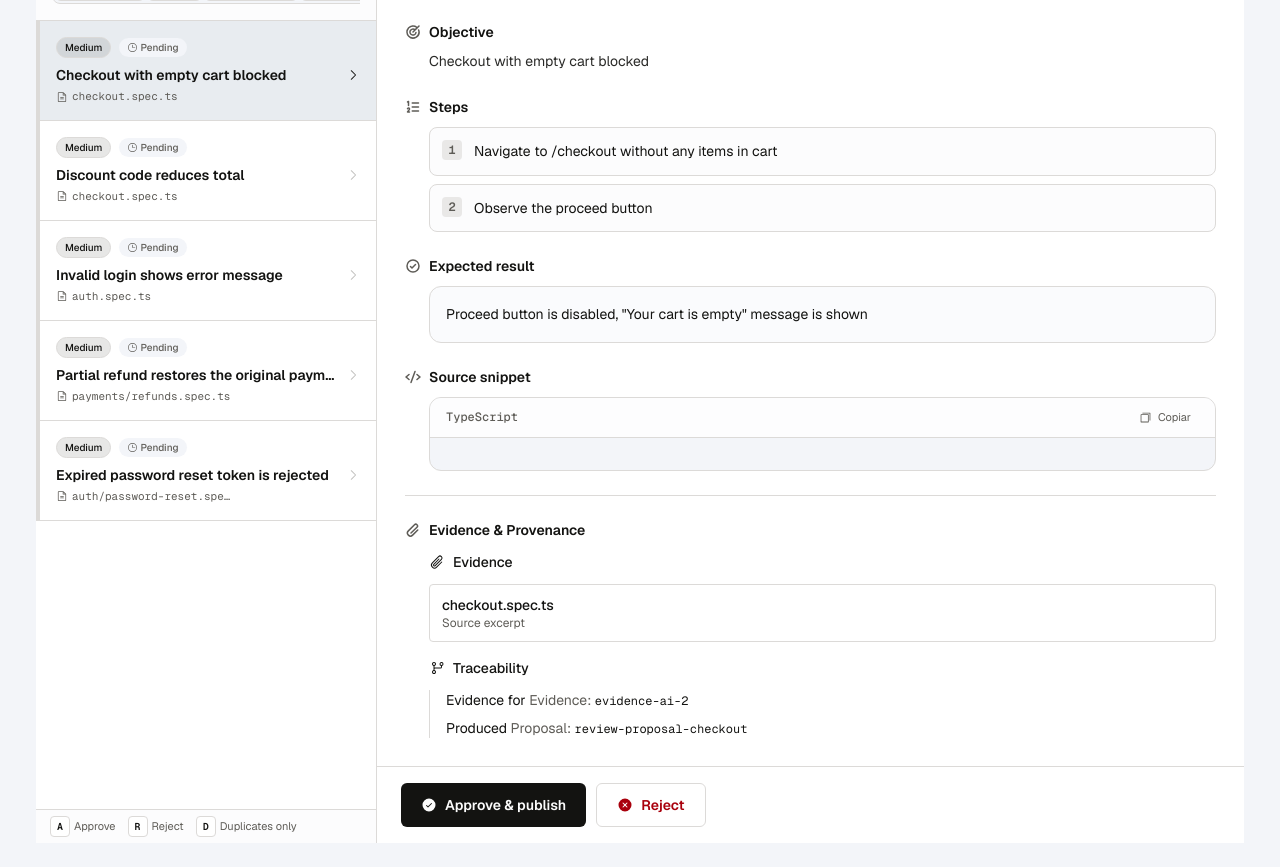
Test: ReviewInboxPage › shows a clear error toast instead of doing nothing when approve fails because the proposal has no steps
(page scrolled)
What coordinates should you click on to do the following:
click the button "Approve & publish"
I would click on:
 (494, 805)
Its box is 401,783 -> 586,827.
(page scrolled)
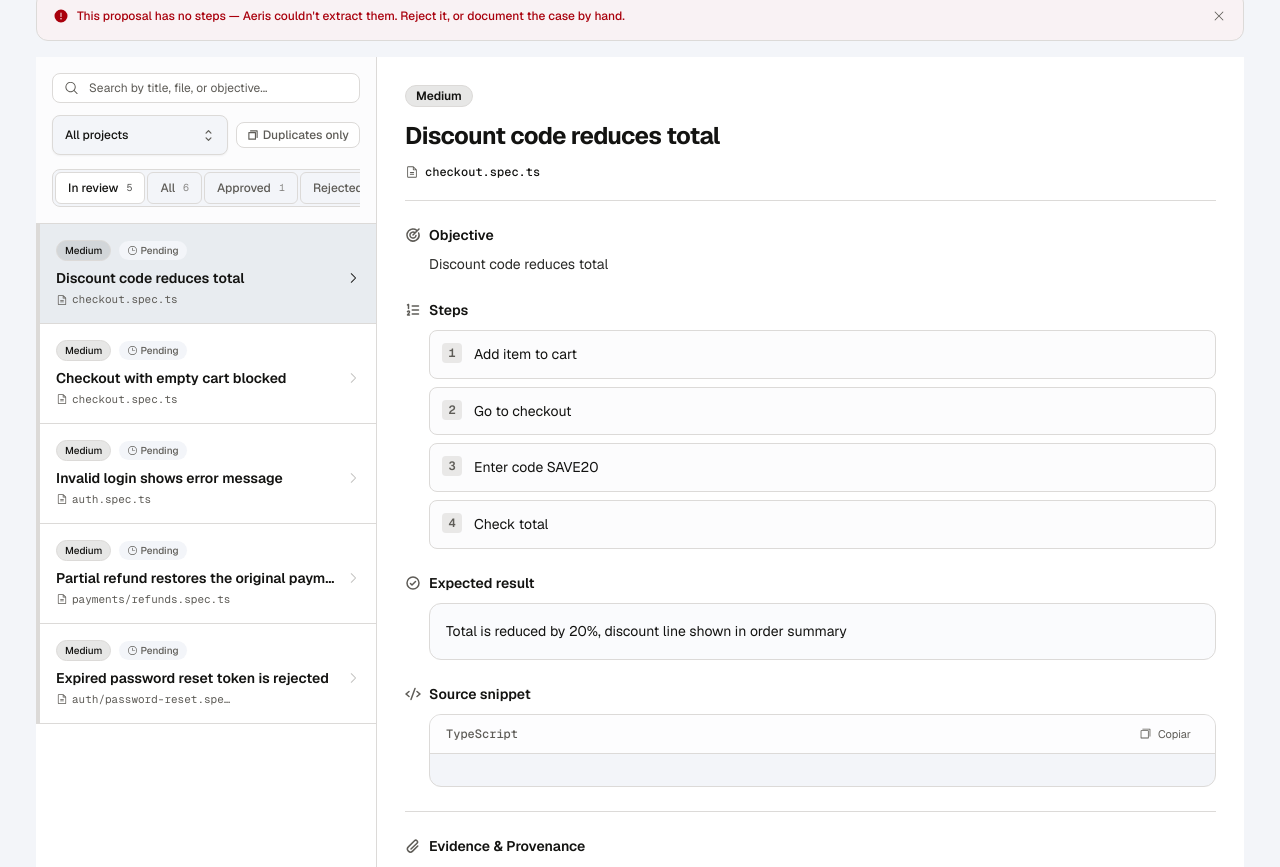
Result: the message shows "This proposal has no steps" at 77,8 -> 625,24
